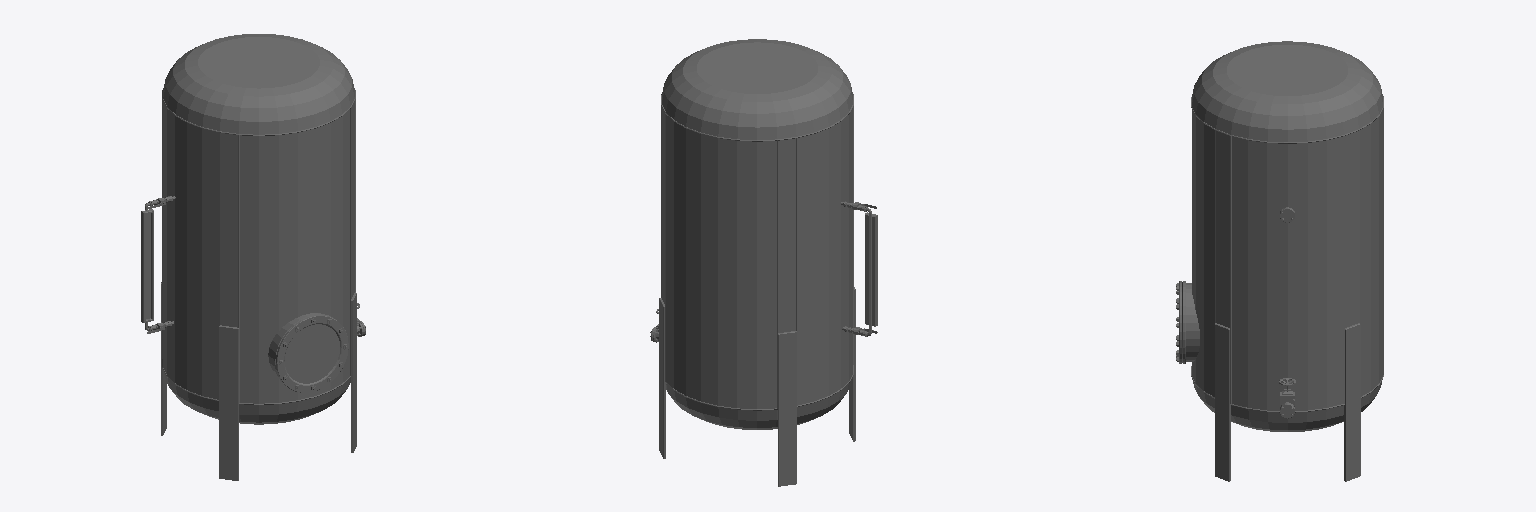
The model's file is Boiler.obj.
The picture shows the model from 3 angles: view 1: azimuth 30°, elevation 25°; view 2: azimuth 150°, elevation 25°; view 3: azimuth 270°, elevation 25°; orthographic projection.
Visible parts, largest first — view 1: tank005_Mesh; view 2: tank005_Mesh; view 3: tank005_Mesh.
Boxes of the visible parts, box(x1,y1,x2,y2) form: tank005_Mesh: box(141, 34, 365, 480); tank005_Mesh: box(650, 39, 877, 486); tank005_Mesh: box(1176, 41, 1383, 481).
Bounding box in the file's own units: 1.61 × 2.62 × 1.31.